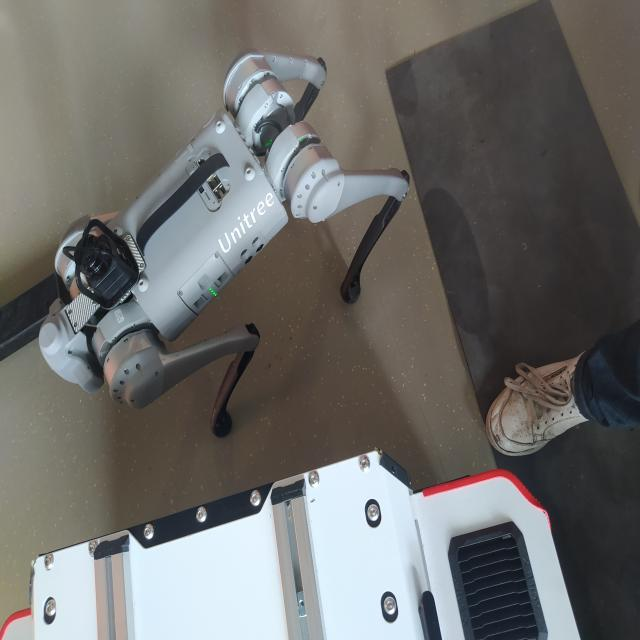unitree-go1-robot: (28, 36, 417, 449)
